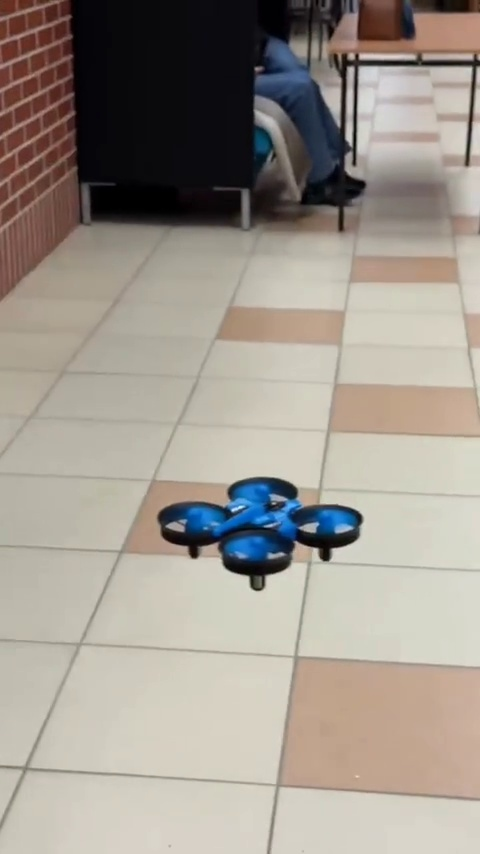drone: (165, 473, 369, 587)
